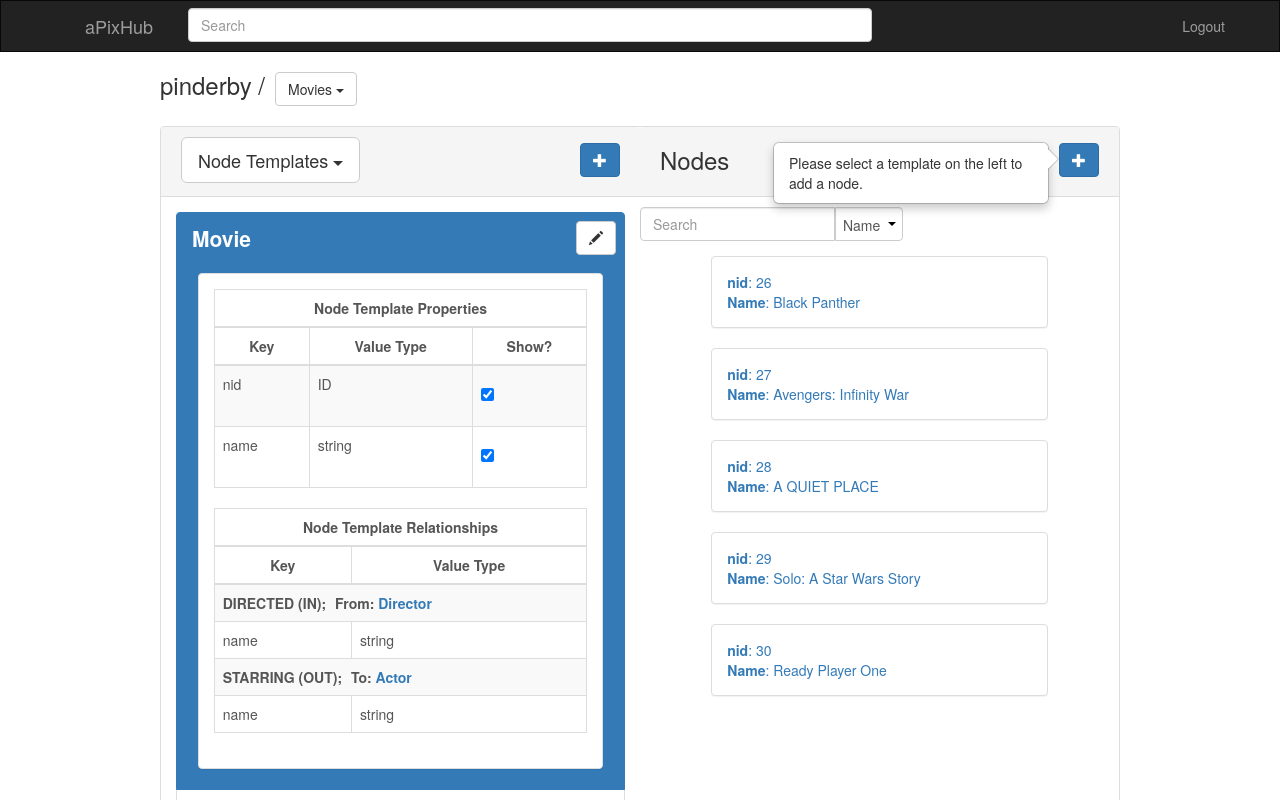
Repo Component › Opens sidemenu with node populated when node is clicked
Click the element showing "nid: 26 Name: Black Panther".
click(794, 292)  # box [727,272,860,312]
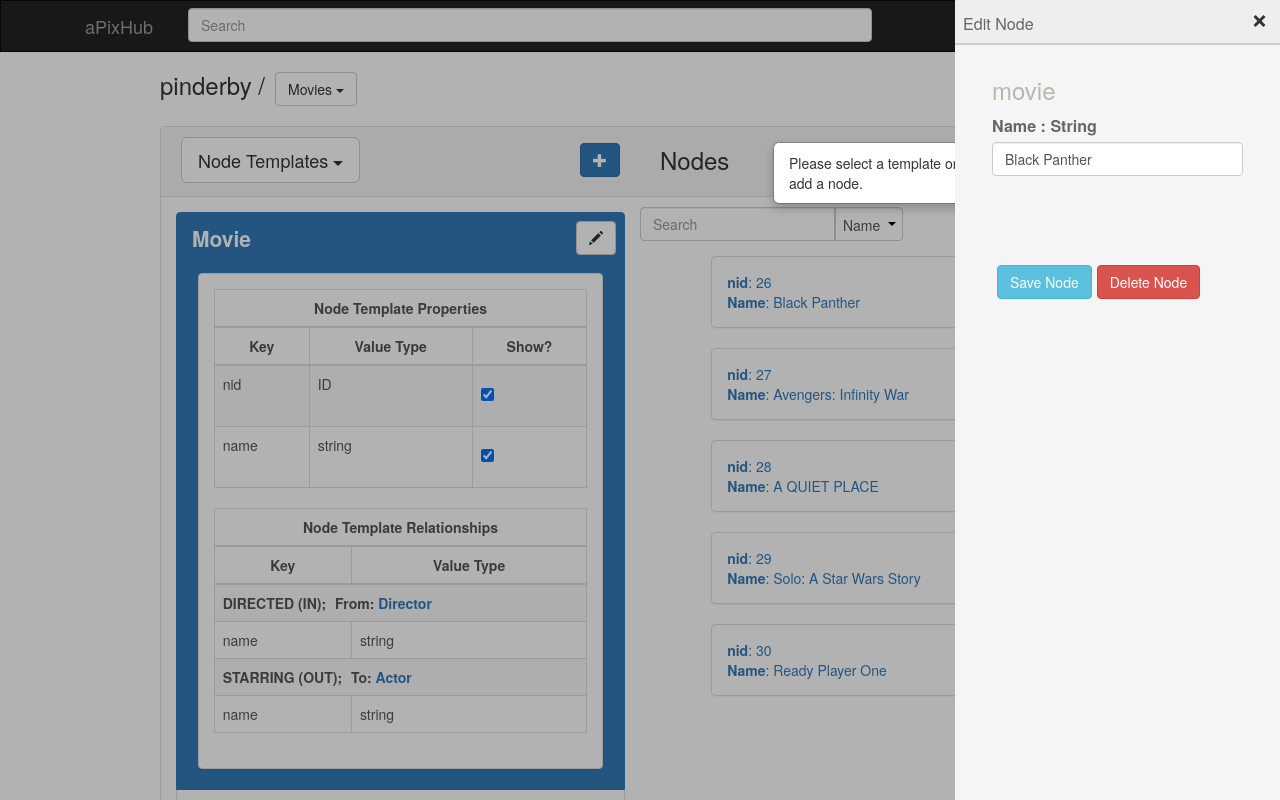
Expected: the field holds "Black Panther", [992,142,1243,176]
